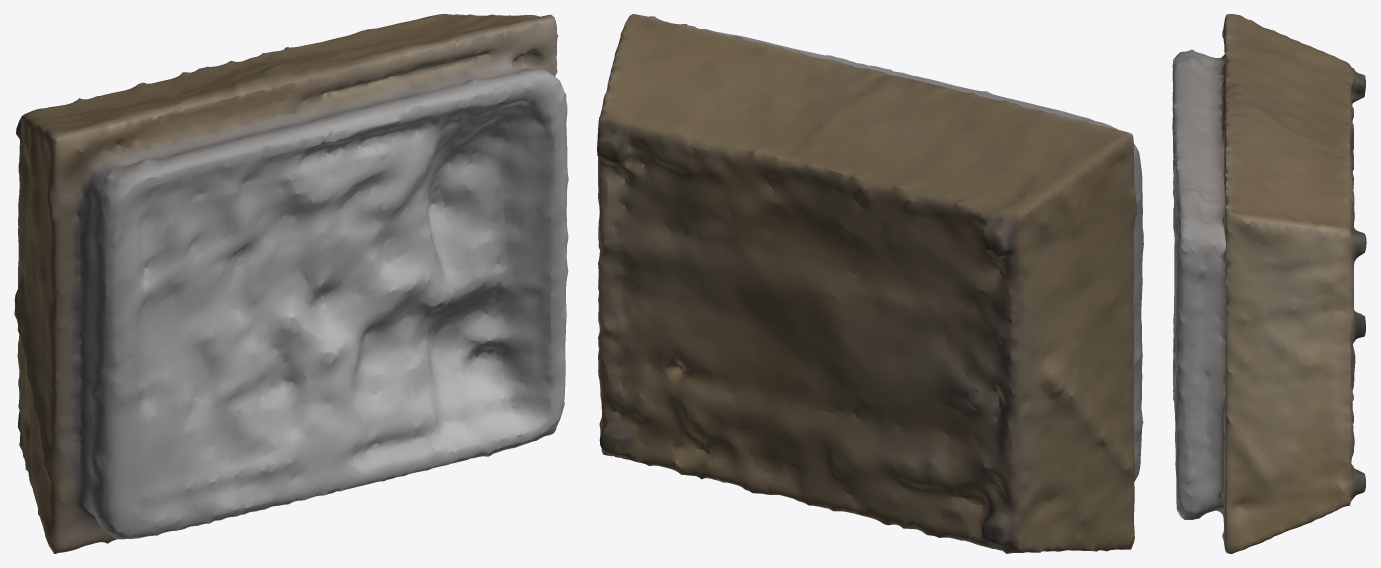
File: soap.glb
3 renders of one model, left to right at view 1: azimuth 30°, elevation 25°; view 2: azimuth 150°, elevation 25°; view 3: azimuth 270°, elevation 25°, orthographic. The views are drawn at different scales.
Size of the model in its own units: 0.9965 by 0.7881 by 0.4019.
